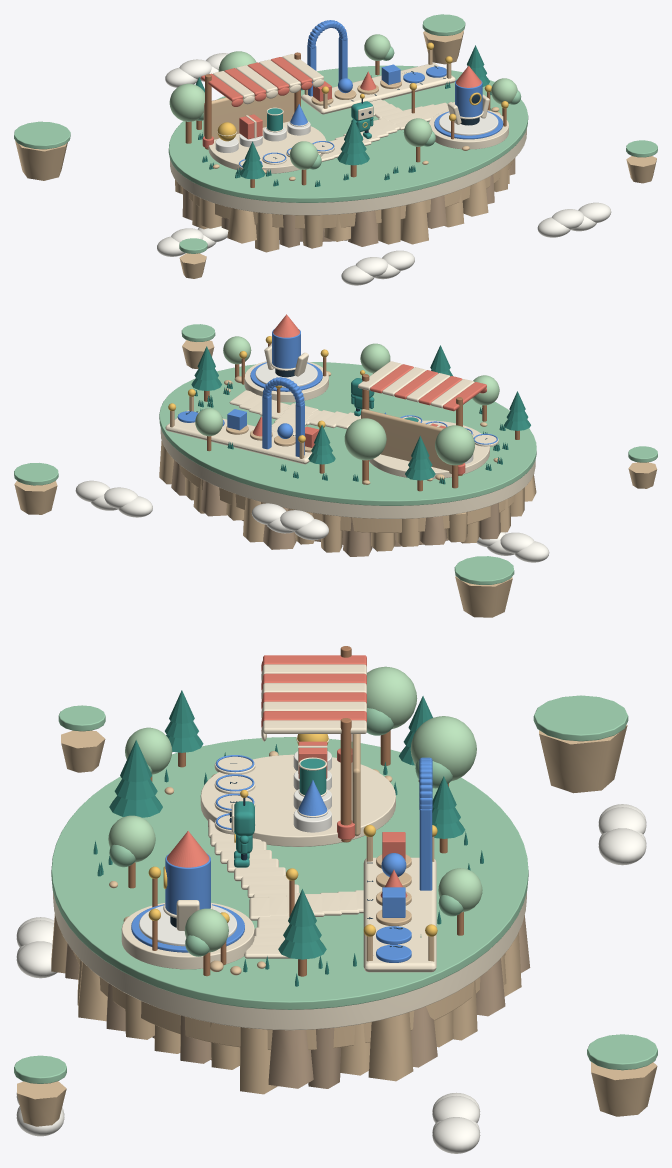
File: island.glb
3 renders of one model, top to bottom at view 1: azimuth 30°, elevation 25°; view 2: azimuth 150°, elevation 25°; view 3: azimuth 270°, elevation 25°, orthographic. The views are drawn at different scales.
Parts seen in each view (by area): view 1: Island layer 3, Island layer 2, Workshop terrace, Bridge platform, Workshop rear wall, Island layer 1, Distant rock, Distant lawn, Round crown, Cliff stone.010, Launchpad lower, Distant rock.001 (+36 smaller); view 2: Island layer 3, Island layer 2, Workshop rear wall, Island layer 1, Bridge platform, Distant rock, Distant lawn, Round crown.001, Workshop terrace, Round crown, Distant rock.001, Launchpad lower (+36 smaller); view 3: Island layer 3, Island layer 2, Workshop terrace, Bridge platform, Island layer 1, Distant rock, Distant lawn, Round crown.001, Distant rock.001, Launchpad lower, Cliff stone.037, Cliff stone (+46 smaller).
Boxes of the visible parts, box(x1,y1,x2,y2) form: Island layer 3: box(168, 65, 528, 202); Island layer 2: box(170, 128, 526, 215); Workshop terrace: box(208, 121, 326, 173); Bridge platform: box(301, 63, 455, 114); Workshop rear wall: box(203, 87, 294, 139); Island layer 1: box(189, 159, 513, 228); Distant rock: box(15, 140, 67, 180); Distant lawn: box(14, 121, 70, 149); Round crown: box(169, 83, 204, 121); Cliff stone.010: box(400, 200, 428, 244); Launchpad lower: box(429, 110, 508, 149); Distant rock.001: box(423, 30, 463, 64); Island layer 3: box(159, 362, 536, 505); Island layer 2: box(160, 428, 535, 518); Workshop rear wall: box(361, 409, 451, 473); Island layer 1: box(179, 464, 513, 532); Bridge platform: box(165, 410, 312, 464); Distant rock: box(455, 576, 512, 617); Distant lawn: box(454, 556, 514, 584); Round crown.001: box(344, 418, 386, 460); Workshop terrace: box(369, 420, 489, 479); Round crown: box(435, 425, 474, 465); Distant rock.001: box(14, 481, 57, 514); Launchpad lower: box(244, 361, 328, 402); Island layer 3: box(51, 737, 528, 1009); Island layer 2: box(53, 892, 526, 1030); Workshop terrace: box(200, 754, 395, 846); Bridge platform: box(363, 857, 436, 972); Island layer 1: box(73, 952, 505, 1050); Distant rock: box(539, 724, 627, 793); Distant lawn: box(533, 695, 628, 741); Round crown.001: box(410, 716, 476, 781); Distant rock.001: box(591, 1062, 657, 1116); Launchpad lower: box(121, 902, 254, 969); Cliff stone.037: box(368, 1012, 413, 1081); Cliff stone: box(268, 1030, 313, 1088).
Size of the model in its own units: 21.78 by 6.81 by 15.49.
